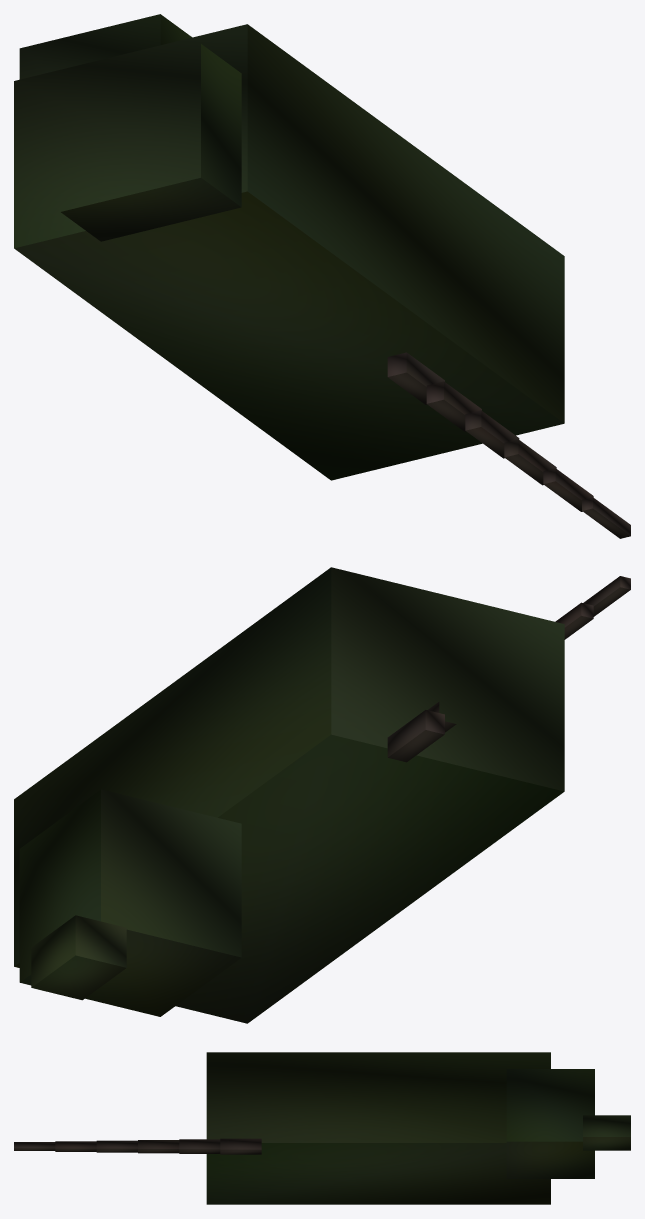
File: rat_v2.glb
The picture shows the model from 3 angles, top to bottom: view 1: azimuth 30°, elevation 25°; view 2: azimuth 150°, elevation 25°; view 3: azimuth 270°, elevation 25°; orthographic projection. The views are drawn at different scales.
Bounding box in the file's own units: 0.2371 × 0.1624 × 1.
